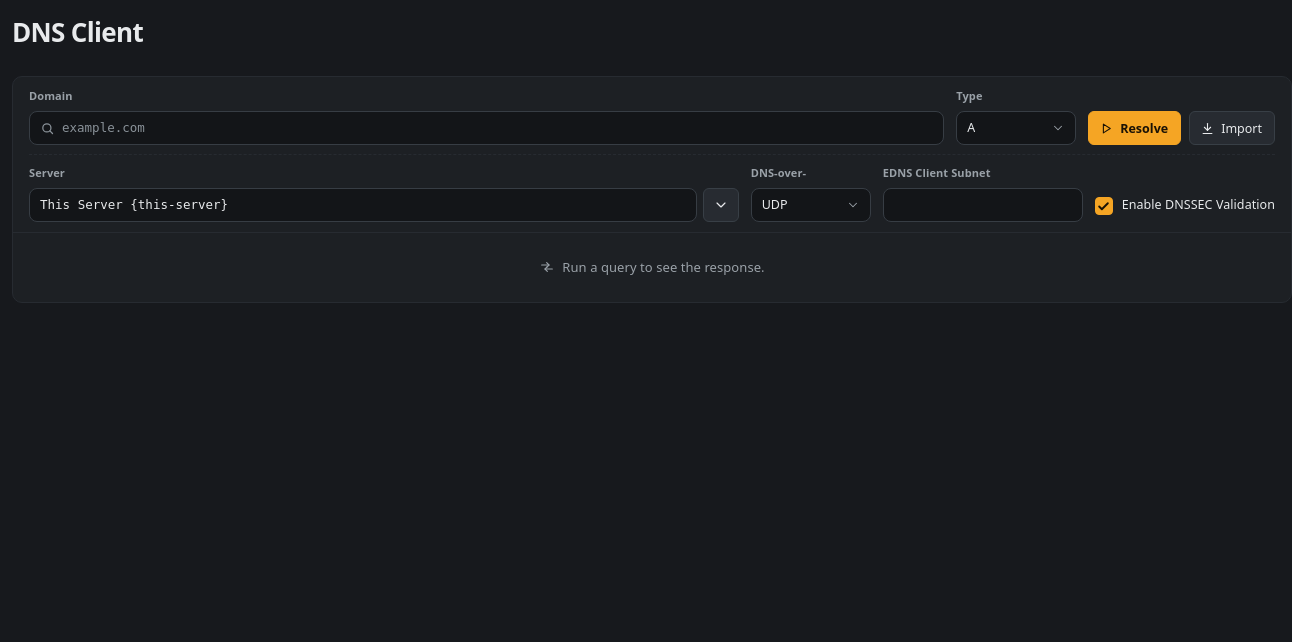
Scenario: DNS Client: the cards › the Extended DNS Error codes of the answer, once each
Type "example.org" into the field labelled "Domain" at (487, 128), box x1=29 y1=111 x2=944 y2=145
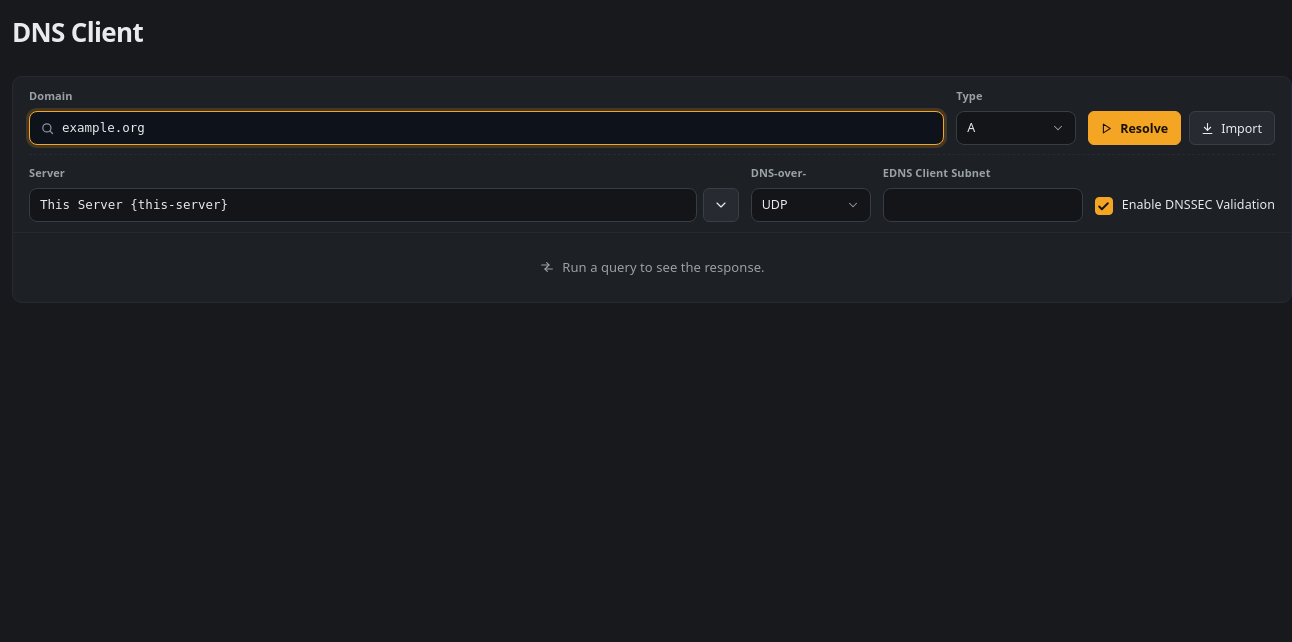
Click the button "Resolve" at (1135, 128), box x1=1088 y1=111 x2=1181 y2=145
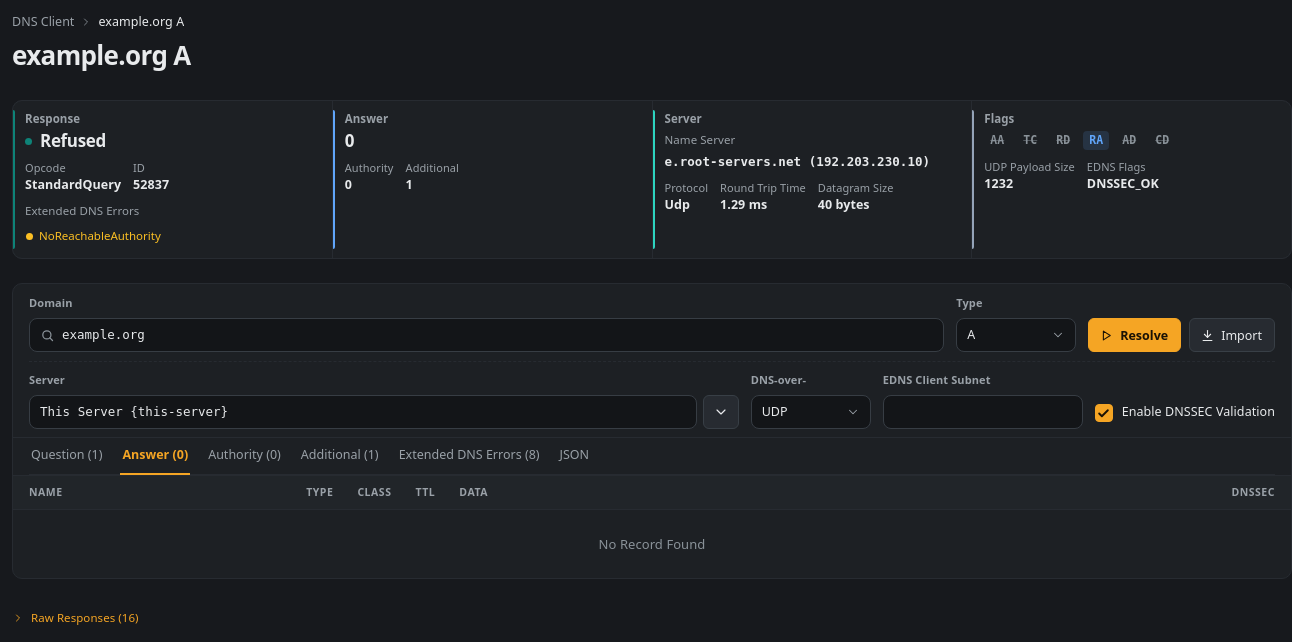
Expected: the text "Refused" is shown, x1=40 y1=132 x2=106 y2=151
Expected: the text "NoReachableAuthority" is shown once, x1=25 y1=224 x2=162 y2=248
